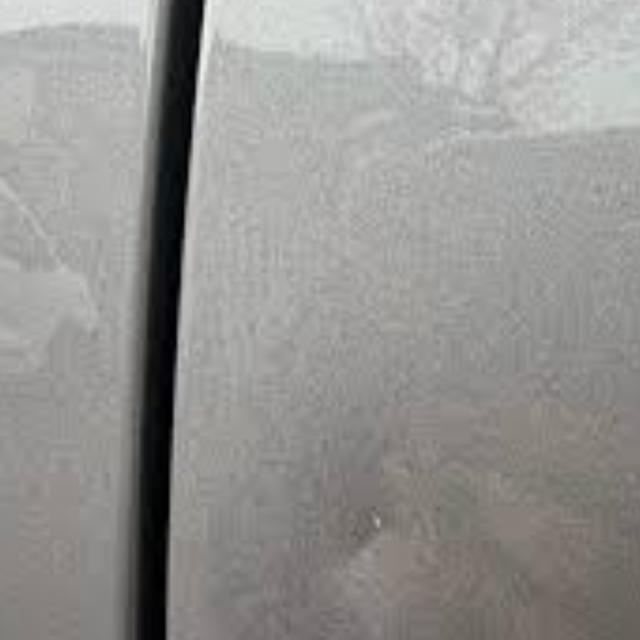dents: (331, 507, 435, 580)
